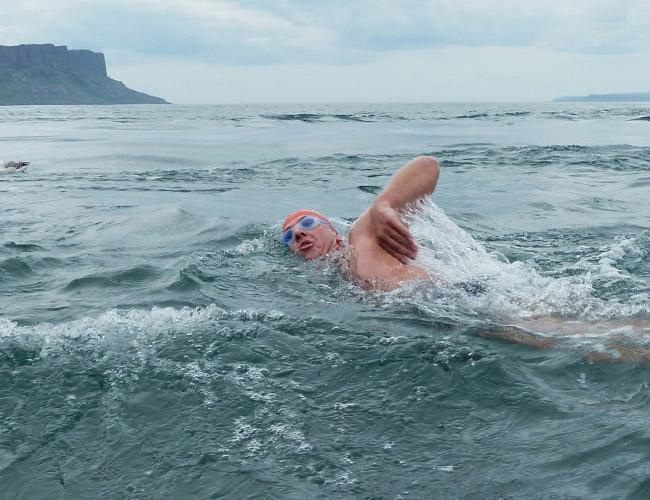swimmer: (270, 148, 546, 351)
